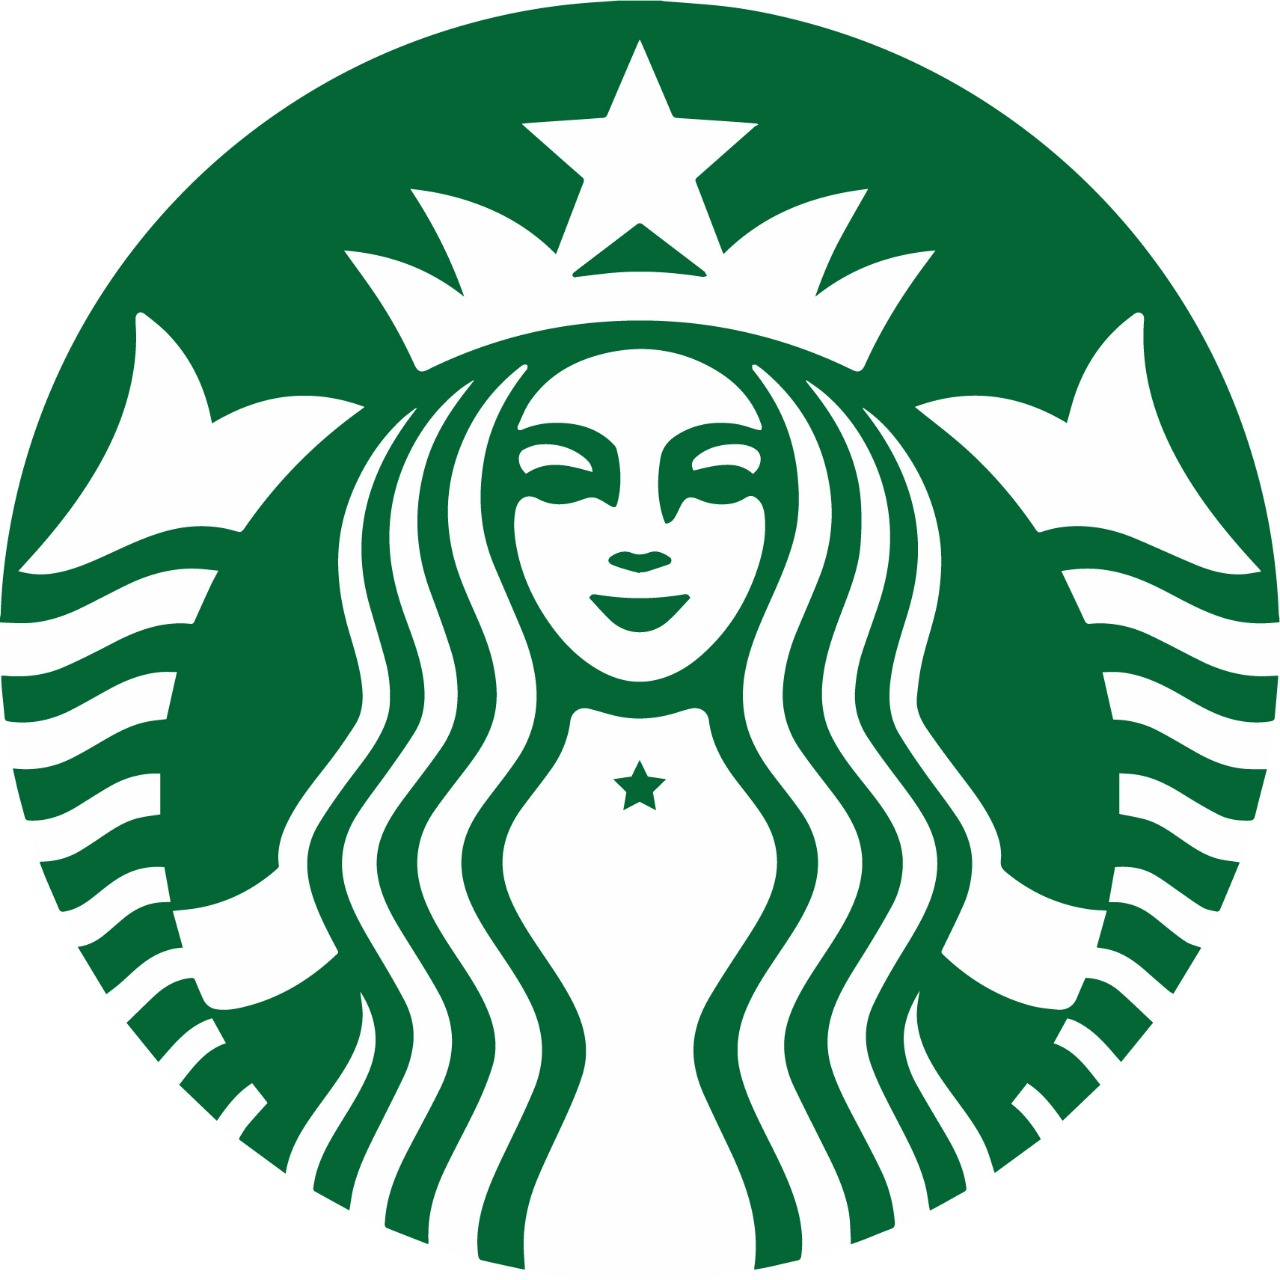starbucks Fake: (6, 14, 1280, 1280)
